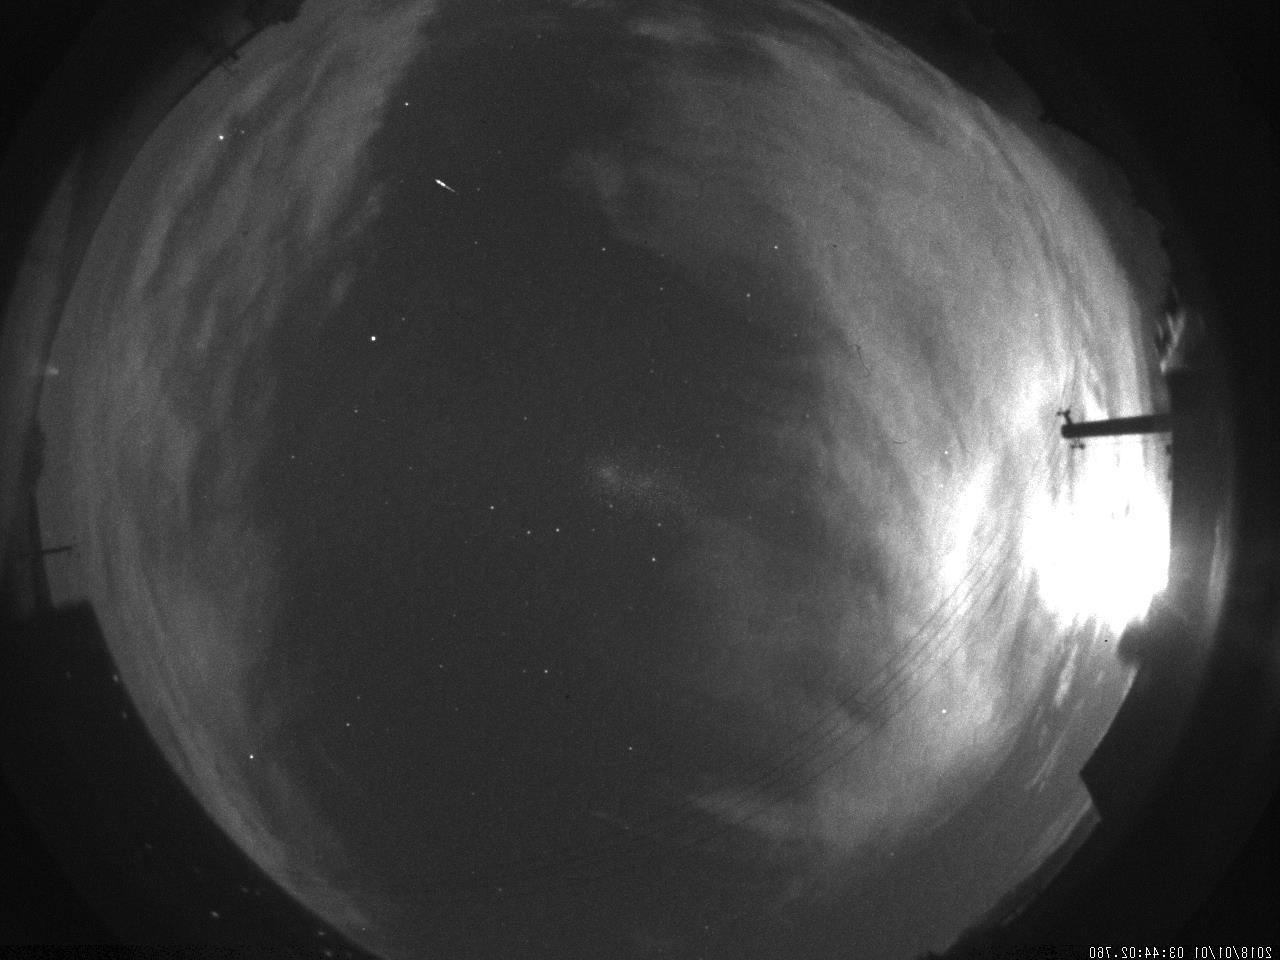meteor: (401, 171, 469, 217)
